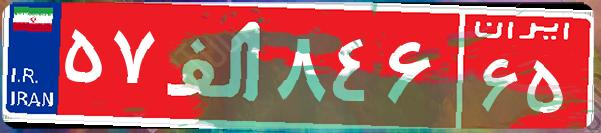4: (330, 28, 385, 110)
5: (57, 26, 110, 107), (525, 38, 570, 115)
6: (385, 28, 445, 110), (475, 38, 525, 113)
7: (110, 28, 158, 105)
8: (273, 28, 330, 110)
الف: (158, 15, 273, 115)
